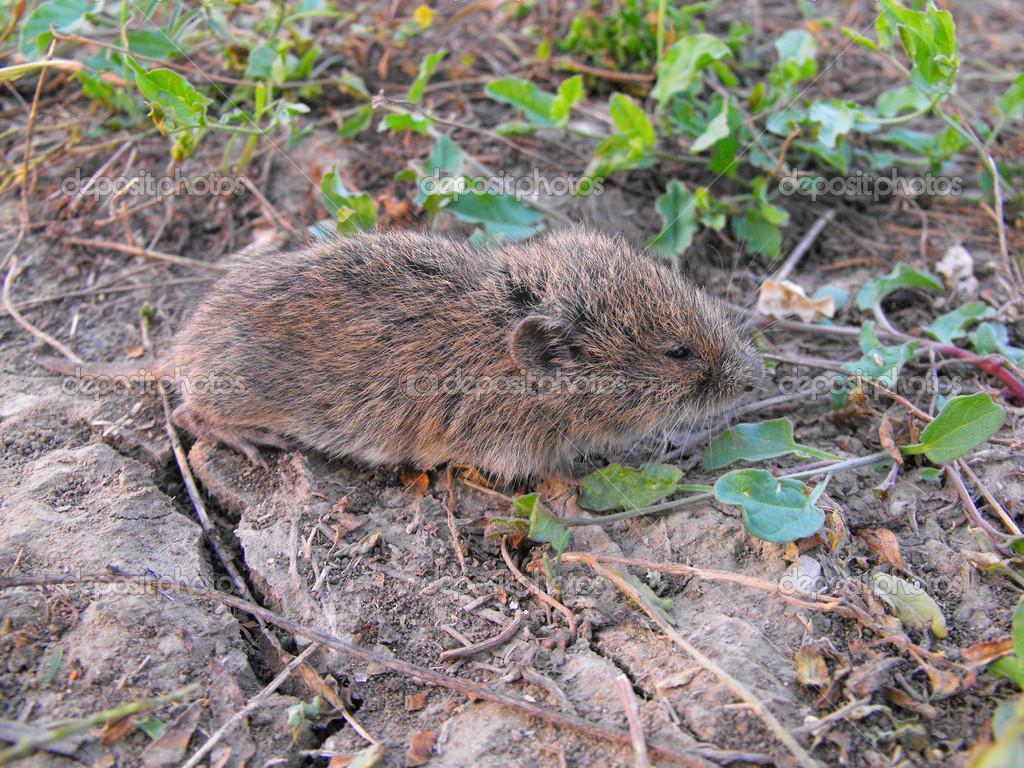rat: (33, 230, 770, 474)
